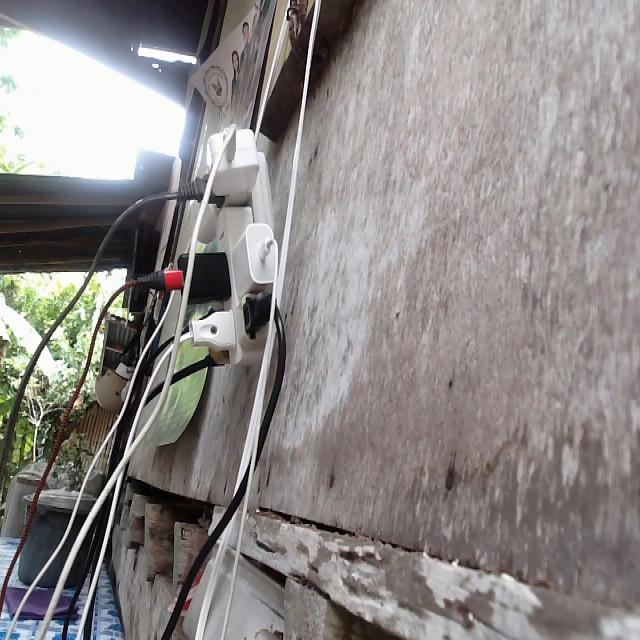-: (137, 119, 283, 373)
